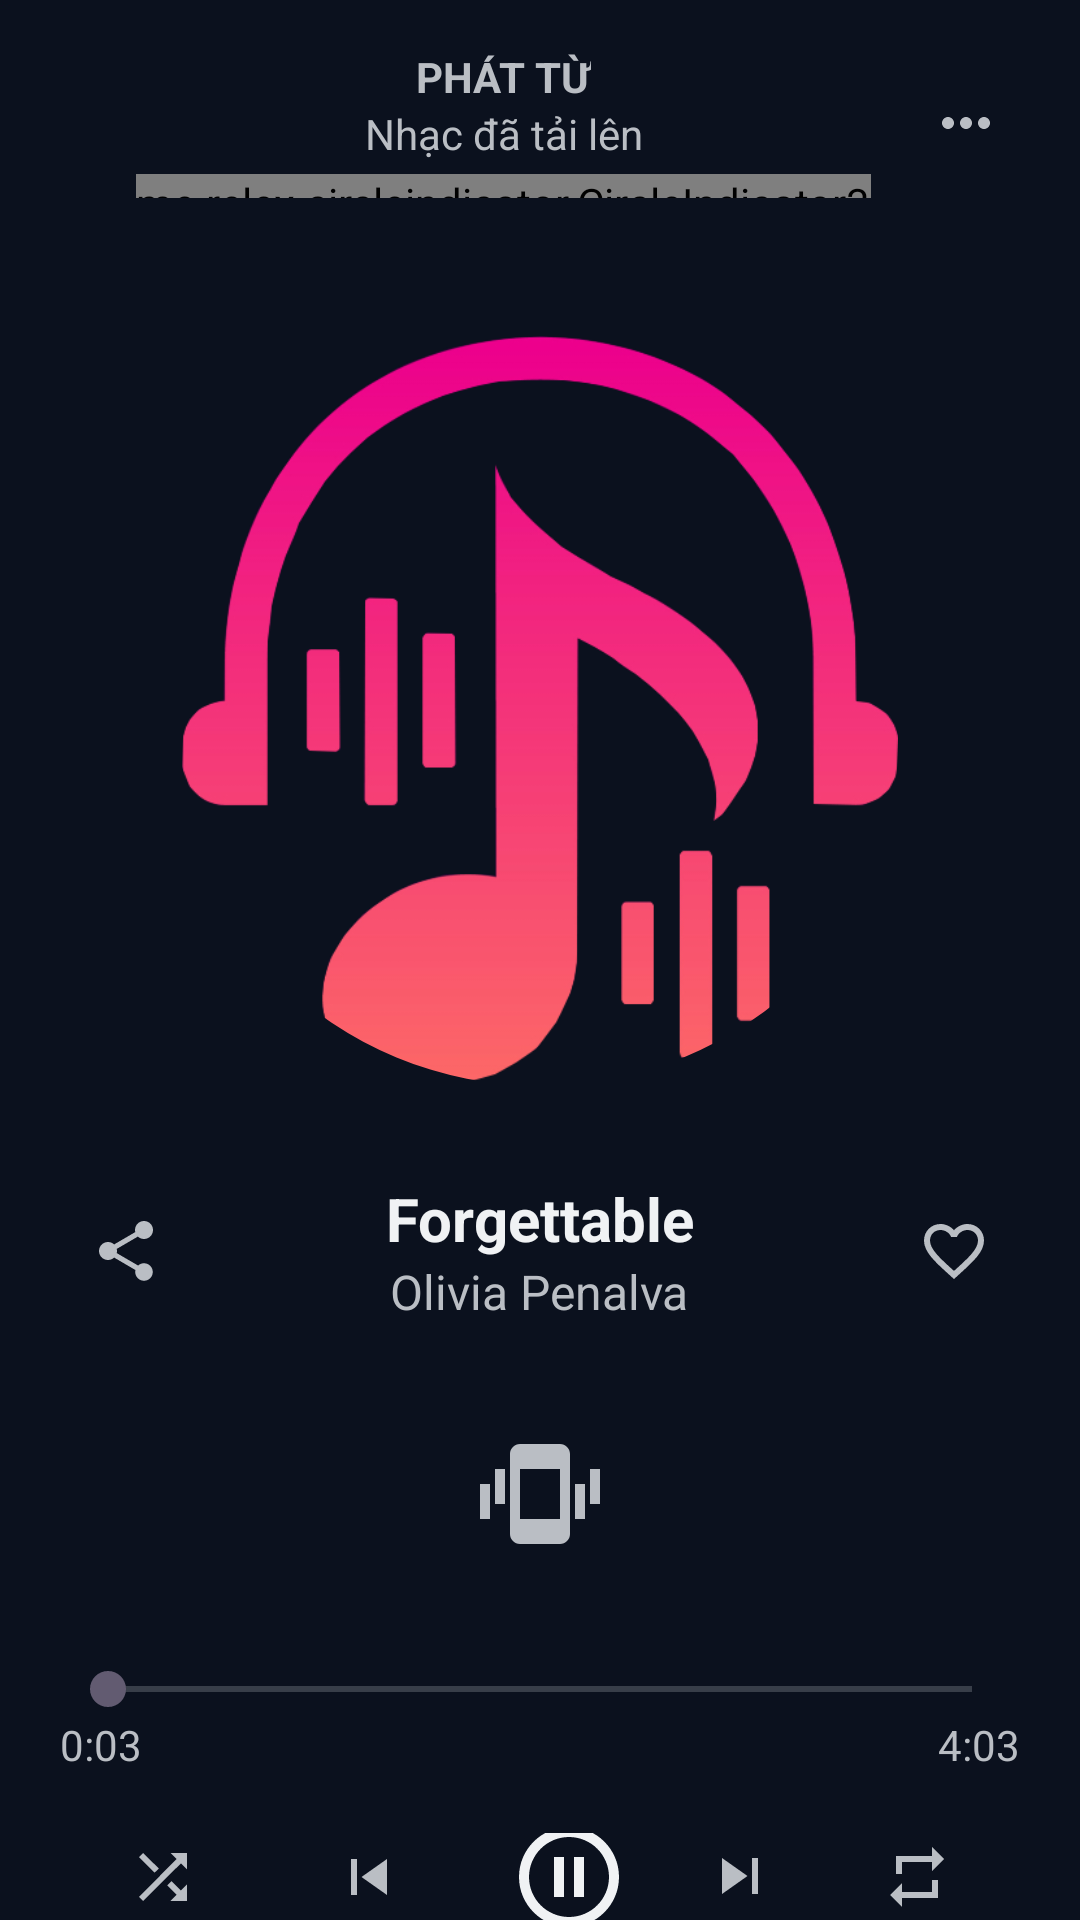

Where to tap for icons on this 1080 × 1920 app screen, as [x,y]:
edgesensor high: [540,1494]
favorite border: [954,1251]
more horiz: [966,123]
repeat: [917,1877]
share: [126,1251]
shuffle: [163,1877]
skip next: [740,1876]
skip previous: [369,1877]
